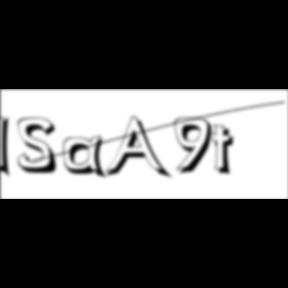9: (174, 117, 220, 177)
A: (104, 116, 174, 182)
I: (1, 110, 18, 182)
S: (17, 117, 63, 176)
a: (64, 135, 112, 182)
t: (210, 124, 242, 179)
